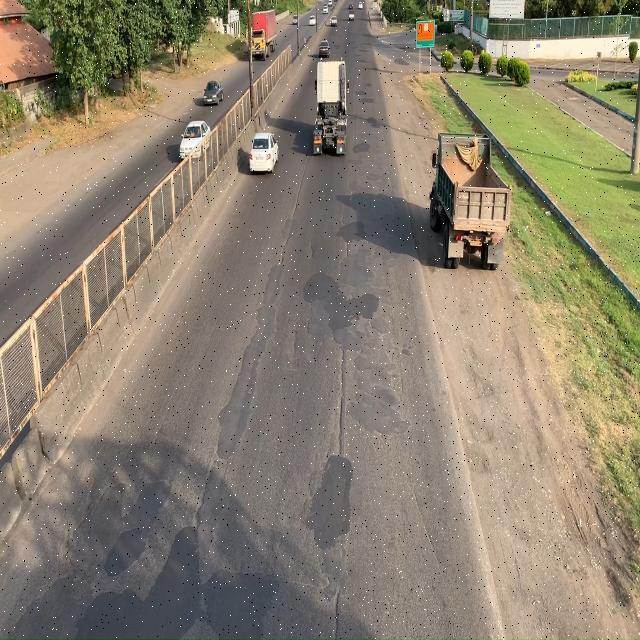Truck: (432, 126, 511, 276), (316, 61, 350, 160), (250, 6, 283, 64)
cars: (249, 131, 279, 184), (179, 118, 212, 163), (202, 74, 227, 108)
